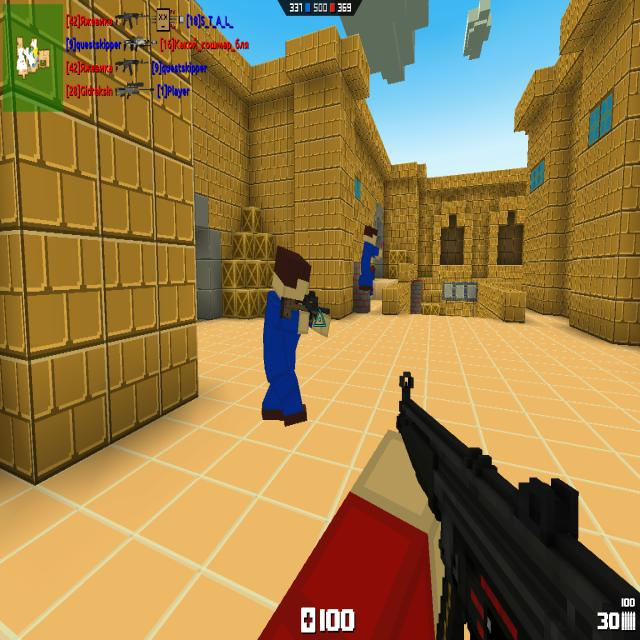enemy: (261, 245, 335, 421), (358, 225, 382, 291)
